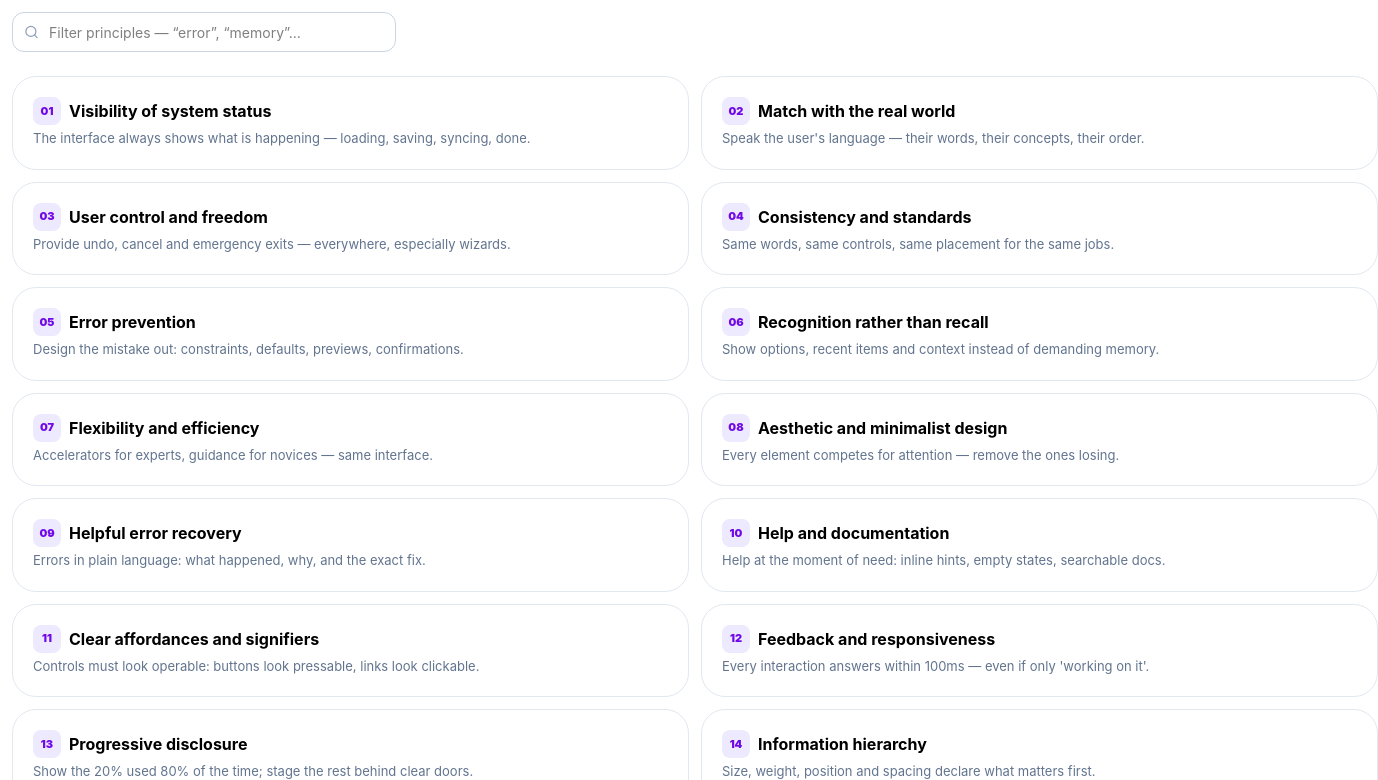
Test: principles overview › filters principles and clears
Type "jargon" into the field labelled "Filter principles". click: (204, 32)
box: [12,12,396,52]
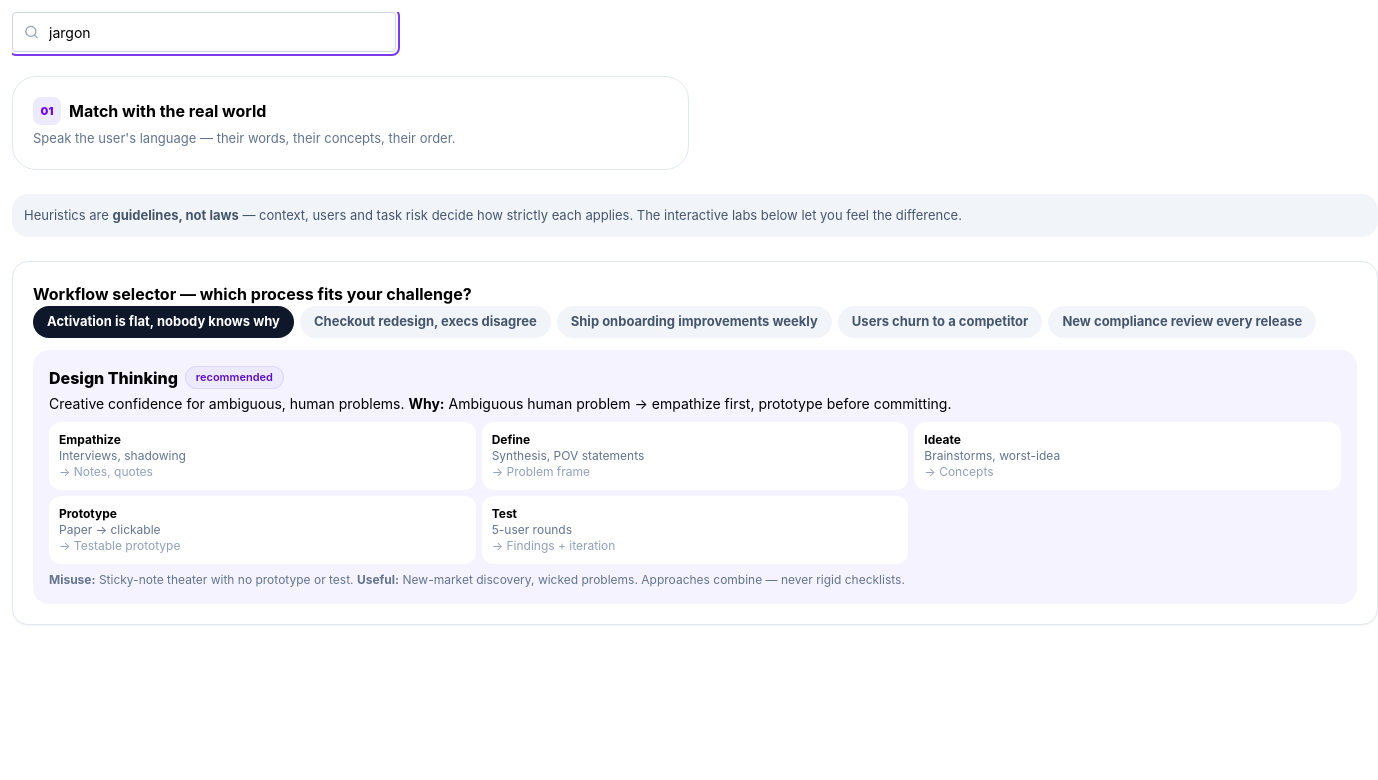
Expected: the text "Match with the real world" is shown, [69,99,266,123]
Expected: the heading "Visibility of system status" is gone
Clear the field named "Filter principles". click: (204, 32)
box: [12,12,396,52]
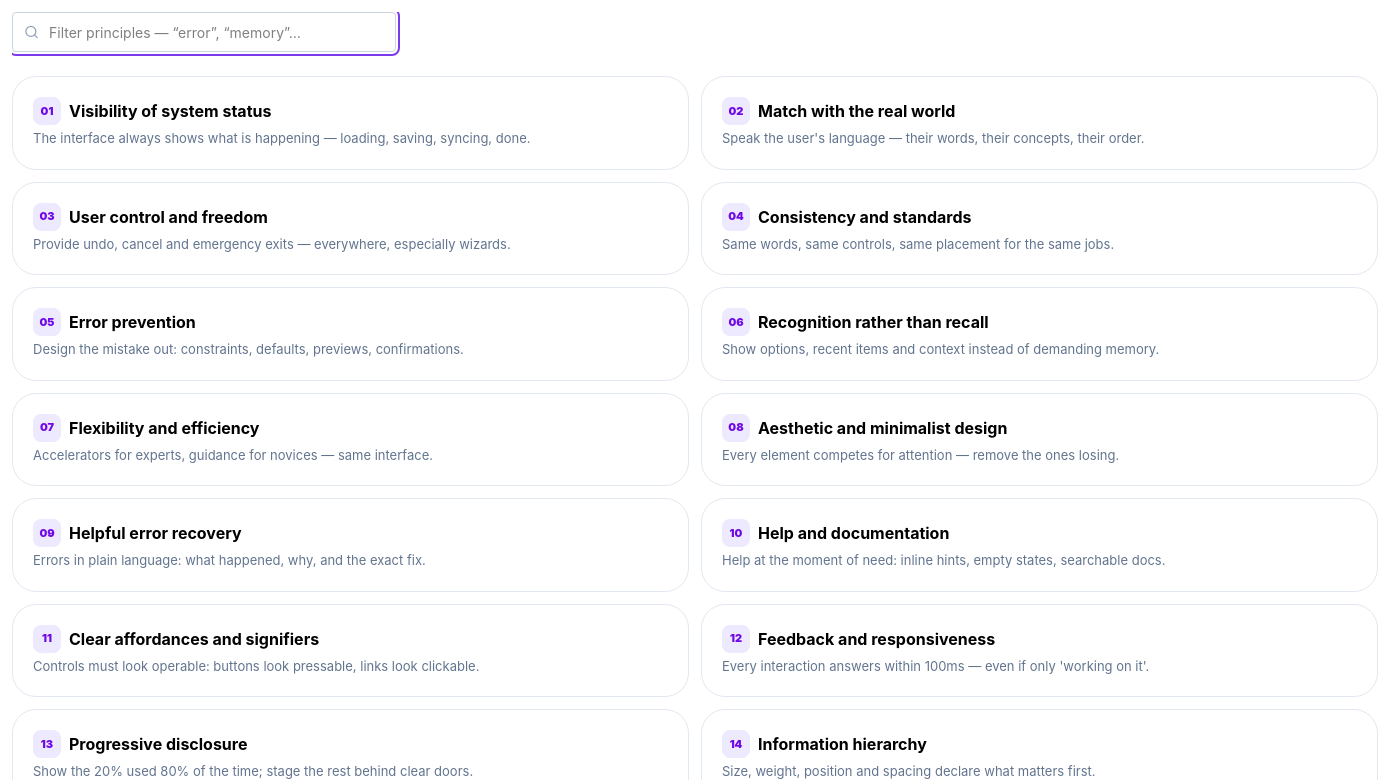
Expected: the text "Visibility of system status" is shown, [69,99,271,123]
